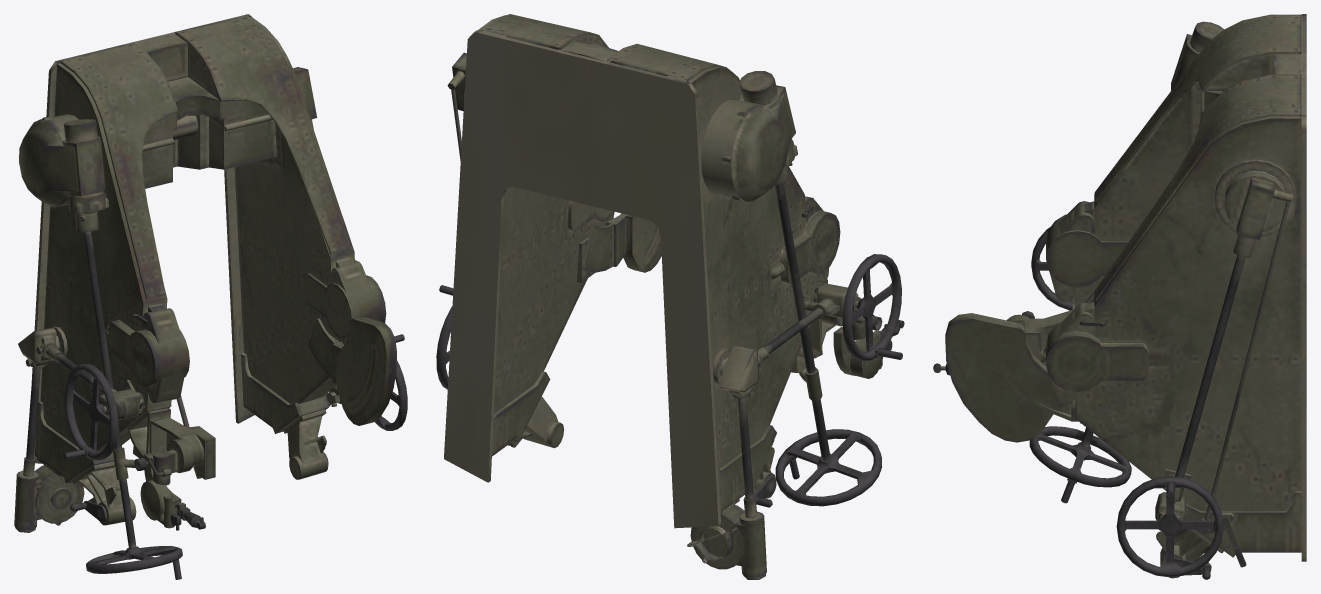
The model's file is Turret_02.glb.
The picture shows the model from 3 angles, left to right: view 1: azimuth 30°, elevation 25°; view 2: azimuth 150°, elevation 25°; view 3: azimuth 270°, elevation 25°; orthographic projection. The views are drawn at different scales.
Visible parts, largest first — view 1: set_0_group_0; view 2: set_0_group_0; view 3: set_0_group_0.
Part boxes in pixels (box(x1,y1,x2,y2)): set_0_group_0: box(14, 14, 407, 579); set_0_group_0: box(436, 14, 904, 579); set_0_group_0: box(933, 14, 1306, 579).
Bounding box in the file's own units: 1.68 × 1.91 × 1.32.
1 material, 1 textured.
